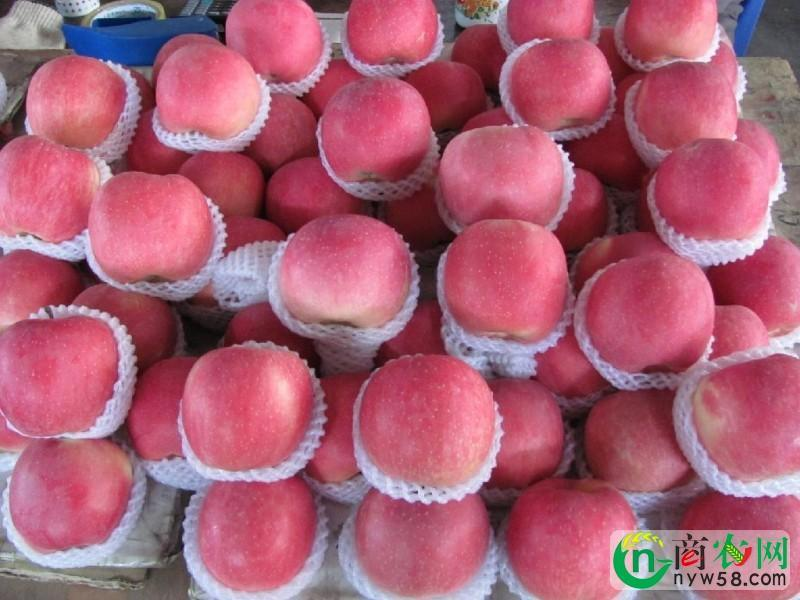apple: (179, 341, 318, 481), (363, 354, 495, 488), (1, 310, 134, 442), (83, 169, 217, 290), (588, 247, 706, 375), (512, 479, 636, 599), (443, 219, 563, 339), (358, 492, 493, 597), (197, 471, 314, 590), (580, 382, 694, 500), (692, 359, 800, 482), (439, 125, 565, 226), (319, 76, 428, 184), (622, 60, 736, 163), (653, 136, 768, 236), (475, 377, 566, 495), (24, 53, 127, 150), (157, 43, 260, 140), (3, 142, 106, 239), (510, 36, 611, 131), (263, 155, 363, 233), (224, 2, 319, 78), (1, 251, 82, 331), (343, 1, 434, 64), (178, 151, 263, 217)
